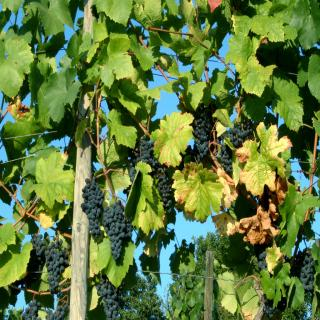Grape: (129, 135, 170, 214), (29, 233, 68, 292), (103, 198, 133, 260), (218, 122, 254, 173), (81, 176, 103, 239), (95, 274, 122, 320), (291, 249, 315, 291), (193, 104, 209, 164), (45, 302, 69, 320), (22, 301, 42, 320), (263, 298, 279, 320), (259, 253, 269, 271)
